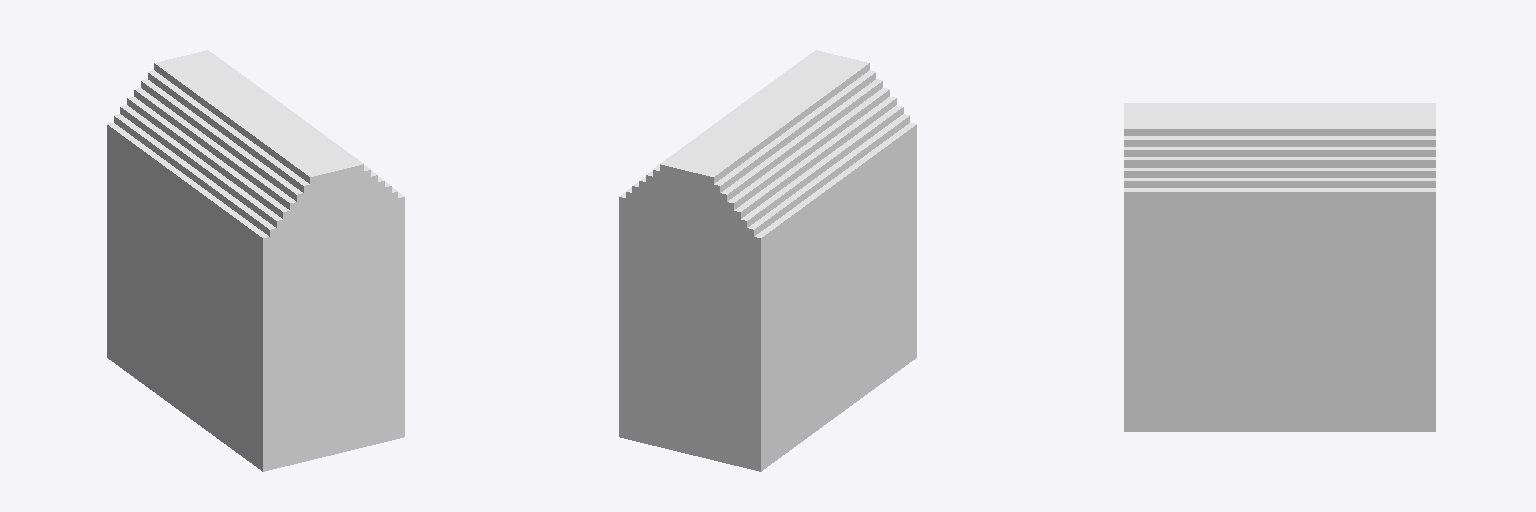
File: squid.obj
3 renders of one model, left to right at view 1: azimuth 30°, elevation 25°; view 2: azimuth 150°, elevation 25°; view 3: azimuth 270°, elevation 25°, orthographic.
Parts seen in each view (by area): view 1: object 1; view 2: object 1; view 3: object 1.
Boxes of the visible parts, x1,y1,x2,y2 form: object 1: [107, 50, 404, 471]; object 1: [619, 50, 916, 471]; object 1: [1124, 103, 1435, 431].
Bounding box in the file's own units: 2.1 × 4 × 4.